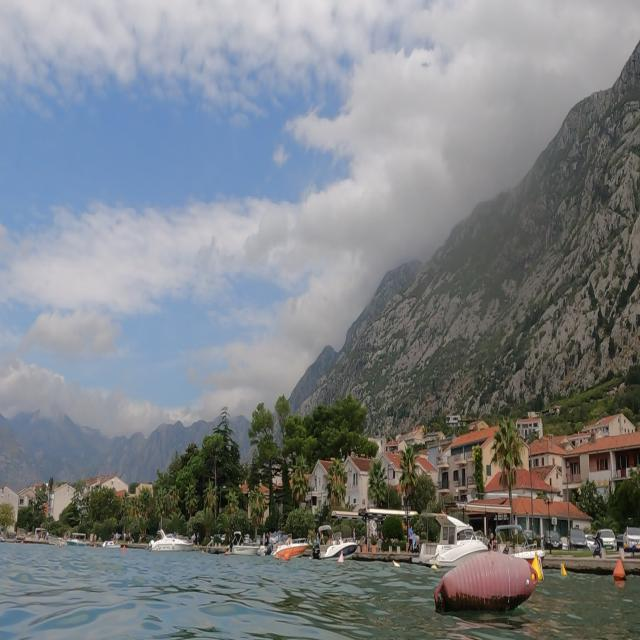boat: (422, 502, 492, 574), (318, 501, 363, 562), (142, 515, 198, 561), (262, 520, 311, 568)
buoy: (434, 540, 544, 621), (530, 552, 550, 587), (611, 551, 628, 588)
